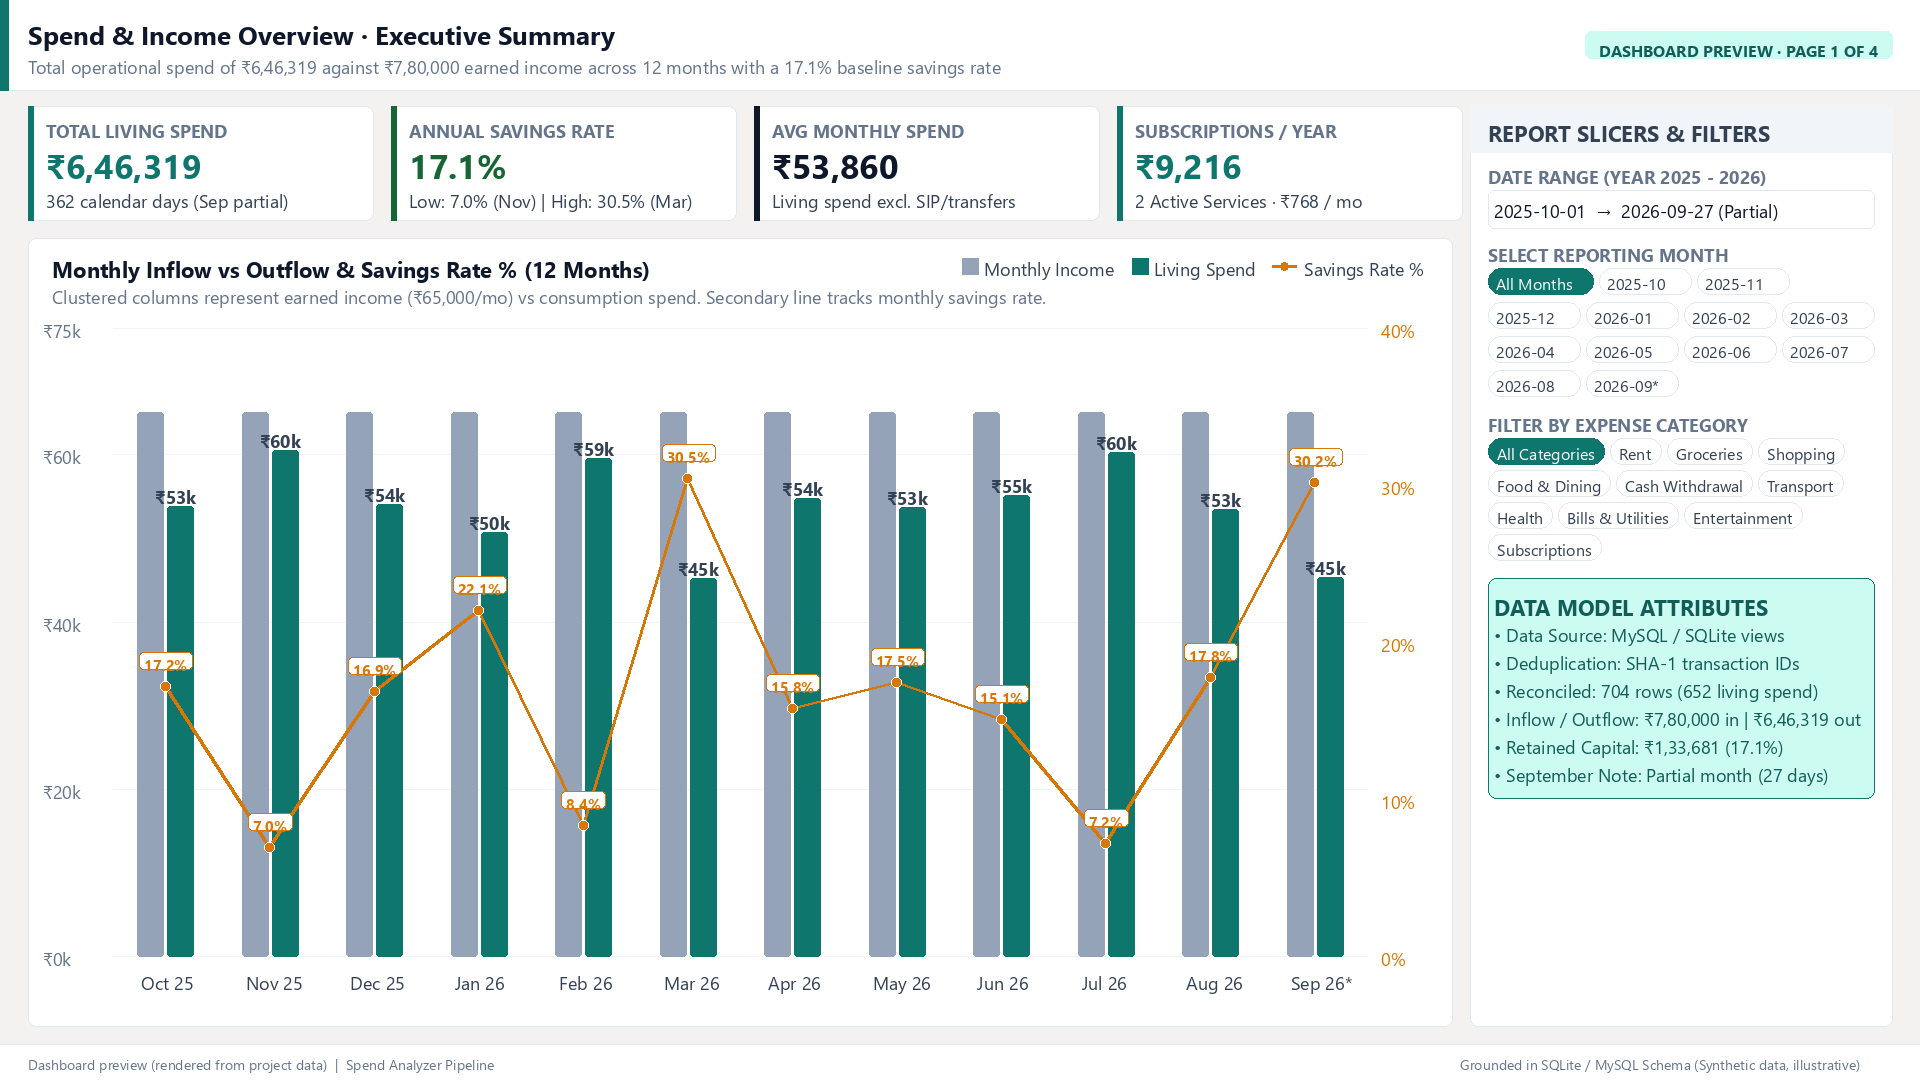

The dashboard page shown, as its layout file describes it:
{"tool":"powerbi","page":{"name":"Overview","canvas":[1920,1080],"ordinal":1},"visuals":[{"type":"cardVisual","fields":{"Data":["transactions.Total Spend Card"]},"box":[0,0,275,388.3],"z":0},{"type":"cardVisual","fields":{"Data":["transactions.Savings Rate"]},"box":[263.3,0,275,388],"z":1},{"type":"cardVisual","fields":{"Data":["transactions.Avg Monthly Spend Card"]},"box":[503.3,0,275,388],"z":2},{"type":"cardVisual","fields":{"Data":["transactions.Annual Subscription Card"]},"box":[778.3,0,275,388],"z":3},{"type":"lineClusteredColumnComboChart","fields":{"Category":["DimDate.MonthLabel"],"Y":["transactions.Total Spend","transactions.Total Income"]},"box":[378.2,467.3,801.7,485],"z":4}]}

Visuals, with their boxes in screenshot pixels (x1, y1, x2, y2), scaled from the page's 1920x1080 canvas onto the 1920x1080 screenshot:
cardVisual - transactions.Total Spend Card: (0,0,275,388)
cardVisual - transactions.Savings Rate: (263,0,538,388)
cardVisual - transactions.Avg Monthly Spend Card: (503,0,778,388)
cardVisual - transactions.Annual Subscription Card: (778,0,1053,388)
lineClusteredColumnComboChart - DimDate.MonthLabel x transactions.Total Spend: (378,467,1180,952)
